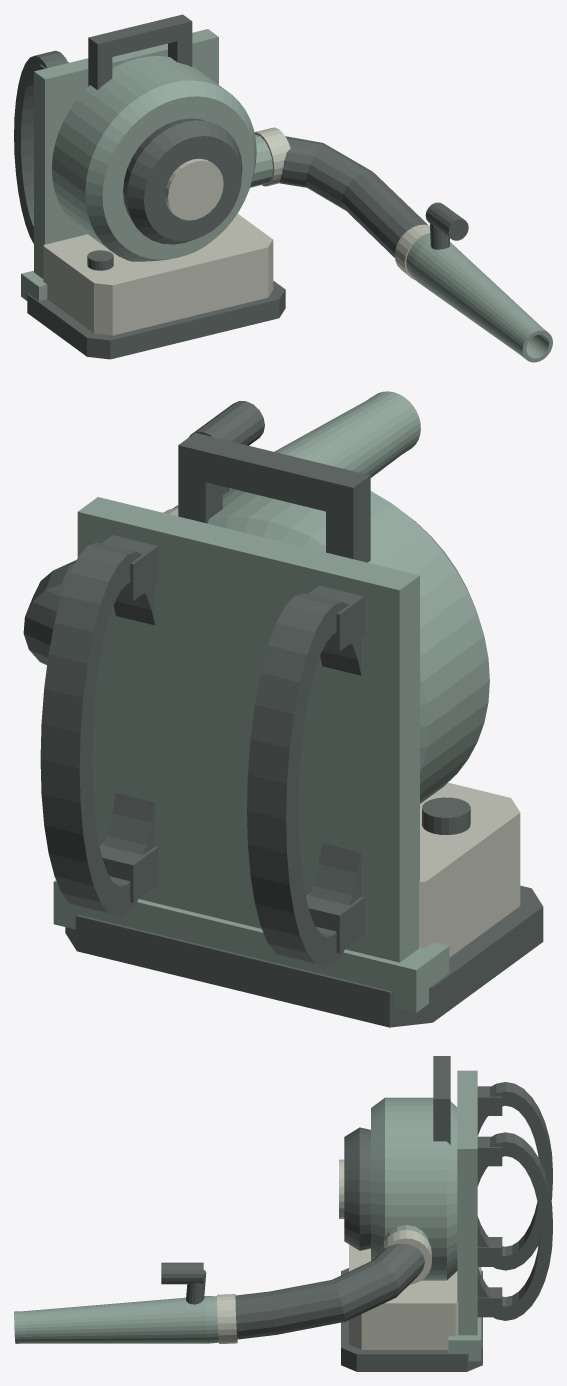
3 views of the same model, one above another, from view 1: azimuth 30°, elevation 25°; view 2: azimuth 150°, elevation 25°; view 3: azimuth 270°, elevation 25° (orthographic). The views are drawn at different scales.
Visible parts, largest first — view 1: WholeSteppedFanCase, WholeLowReservoirExterior, WholeRaisedMotorCap, WholeTallBackplateAndBase, WholeLongBlindMouthNozzle, WholeSweptFlexibleExterior, WholeBroadGroundSkid, WholeRaisedCarryArch, WholeEmptyShoulderLoop-1, WholeBlankInsetMotorCentre, WholeControlGrip, WholeRootCollar (+3 smaller); view 2: WholeTallBackplateAndBase, WholeEmptyShoulderLoop-1, WholeEmptyShoulderLoop1, WholeSteppedFanCase, WholeBroadGroundSkid, WholeLowReservoirExterior, WholeRaisedCarryArch, WholeLongBlindMouthNozzle, WholeSweptFlexibleExterior, WholeStrapLowerRoot1, WholeStrapLowerRoot-1, WholeControlGrip (+3 smaller); view 3: WholeSteppedFanCase, WholeSweptFlexibleExterior, WholeLongBlindMouthNozzle, WholeLowReservoirExterior, WholeTallBackplateAndBase, WholeEmptyShoulderLoop1, WholeEmptyShoulderLoop-1, WholeBroadGroundSkid, WholeRaisedMotorCap, WholeRaisedCarryArch, WholeControlGrip, WholeNozzleRootCollar (+6 smaller).
Boxes of the visible parts, bbox=[...] form: WholeSteppedFanCase: bbox=[52, 56, 256, 261]; WholeLowReservoirExterior: bbox=[43, 213, 273, 335]; WholeRaisedMotorCap: bbox=[123, 118, 242, 244]; WholeTallBackplateAndBase: bbox=[21, 29, 218, 301]; WholeLongBlindMouthNozzle: bbox=[406, 234, 552, 362]; WholeSweptFlexibleExterior: bbox=[279, 136, 427, 257]; WholeBroadGroundSkid: bbox=[27, 281, 285, 359]; WholeRaisedCarryArch: bbox=[88, 14, 192, 89]; WholeEmptyShoulderLoop-1: bbox=[14, 50, 68, 243]; WholeBlankInsetMotorCentre: bbox=[165, 158, 223, 220]; WholeControlGrip: bbox=[425, 202, 468, 240]; WholeRootCollar: bbox=[254, 127, 290, 186]; WholeTallBackplateAndBase: bbox=[53, 497, 449, 1012]; WholeEmptyShoulderLoop-1: bbox=[247, 592, 361, 967]; WholeEmptyShoulderLoop1: bbox=[40, 542, 154, 916]; WholeSteppedFanCase: bbox=[207, 488, 489, 803]; WholeBroadGroundSkid: bbox=[65, 885, 543, 1027]; WholeLowReservoirExterior: bbox=[419, 782, 520, 957]; WholeRaisedCarryArch: bbox=[178, 432, 370, 562]; WholeLongBlindMouthNozzle: bbox=[172, 391, 420, 508]; WholeSweptFlexibleExterior: bbox=[23, 560, 76, 664]; WholeStrapLowerRoot1: bbox=[99, 842, 158, 902]; WholeStrapLowerRoot-1: bbox=[306, 892, 364, 953]; WholeControlGrip: bbox=[189, 401, 264, 445]; WholeSteppedFanCase: bbox=[371, 1097, 457, 1280]; WholeSweptFlexibleExterior: bbox=[235, 1243, 424, 1339]; WholeLongBlindMouthNozzle: bbox=[14, 1296, 218, 1343]; WholeLowReservoirExterior: bbox=[349, 1244, 458, 1349]; WholeTallBackplateAndBase: bbox=[448, 1070, 481, 1361]; WholeEmptyShoulderLoop1: bbox=[477, 1132, 552, 1320]; WholeEmptyShoulderLoop-1: bbox=[477, 1082, 552, 1270]; WholeBroadGroundSkid: bbox=[341, 1268, 482, 1371]; WholeRaisedMotorCap: bbox=[344, 1127, 370, 1250]; WholeRaisedCarryArch: bbox=[433, 1056, 450, 1144]; WholeControlGrip: bbox=[161, 1262, 203, 1284]; WholeNozzleRootCollar: bbox=[217, 1294, 237, 1343].
Bounding box in the file's own units: 0.685 × 0.61 × 1.19.
